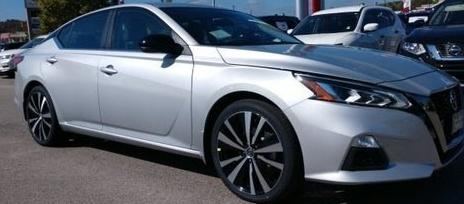Cars: (14, 5, 464, 202)
